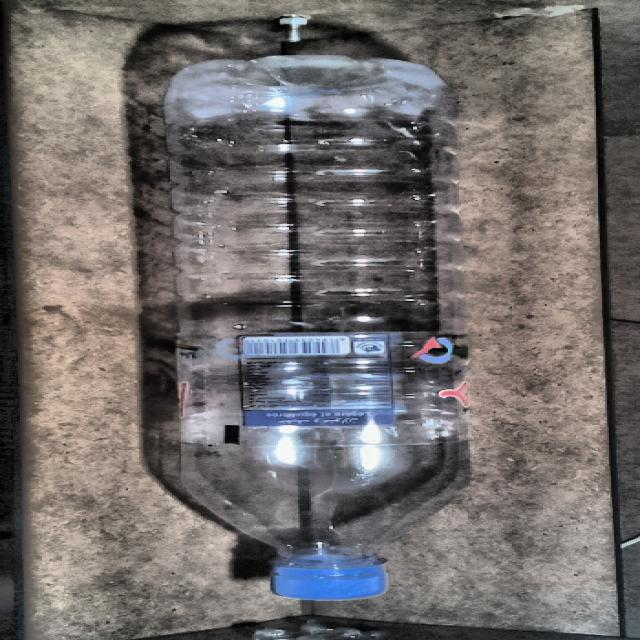plastic bottle: (165, 55, 470, 600)
